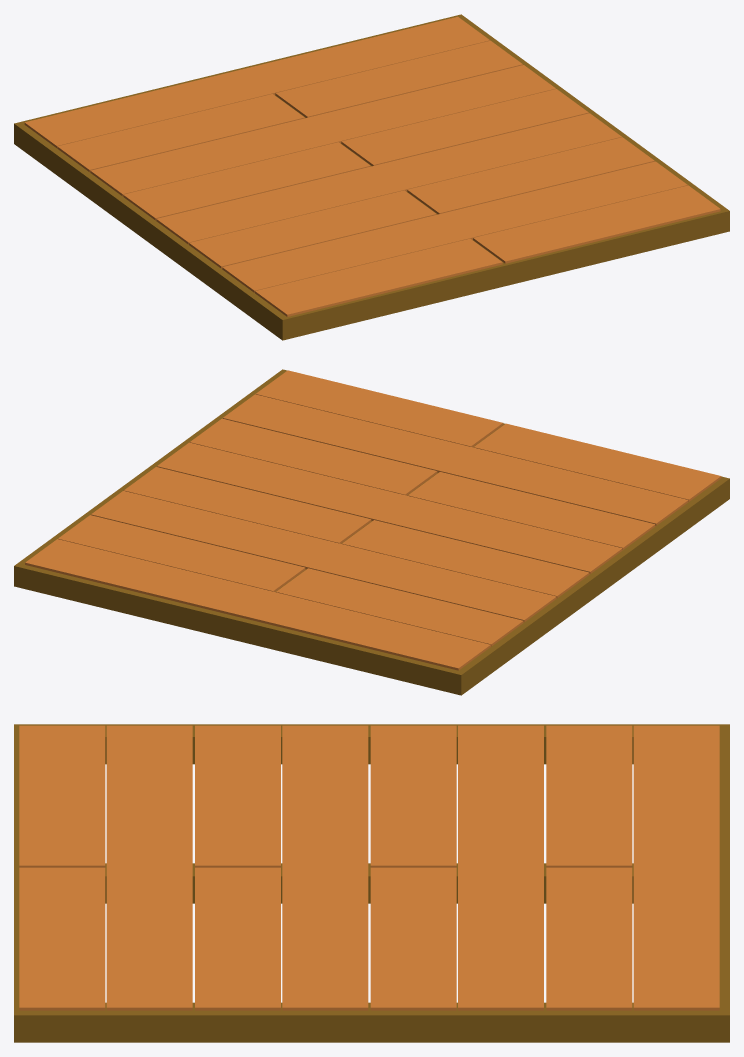
File: pod.FBX
The picture shows the model from 3 angles, top to bottom: view 1: azimuth 30°, elevation 25°; view 2: azimuth 150°, elevation 25°; view 3: azimuth 270°, elevation 25°; orthographic projection. The views are drawn at different scales.
Visible parts, largest first — view 1: pod_daske, pod_konstrukcija; view 2: pod_daske, pod_konstrukcija; view 3: pod_daske, pod_konstrukcija.
Part boxes in pixels (x1,y1,x2,y2): pod_daske: (24, 16, 720, 316); pod_konstrukcija: (14, 14, 729, 340); pod_daske: (25, 370, 721, 670); pod_konstrukcija: (14, 369, 729, 695); pod_daske: (19, 725, 719, 1010); pod_konstrukcija: (14, 724, 729, 1042).
Bounding box in the file's own units: 160 × 7.78 × 166.
